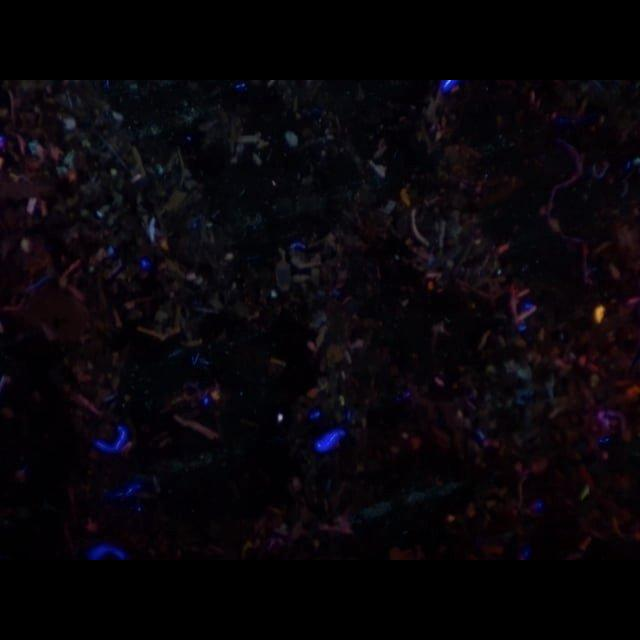Fibre: (284, 129, 300, 147)
